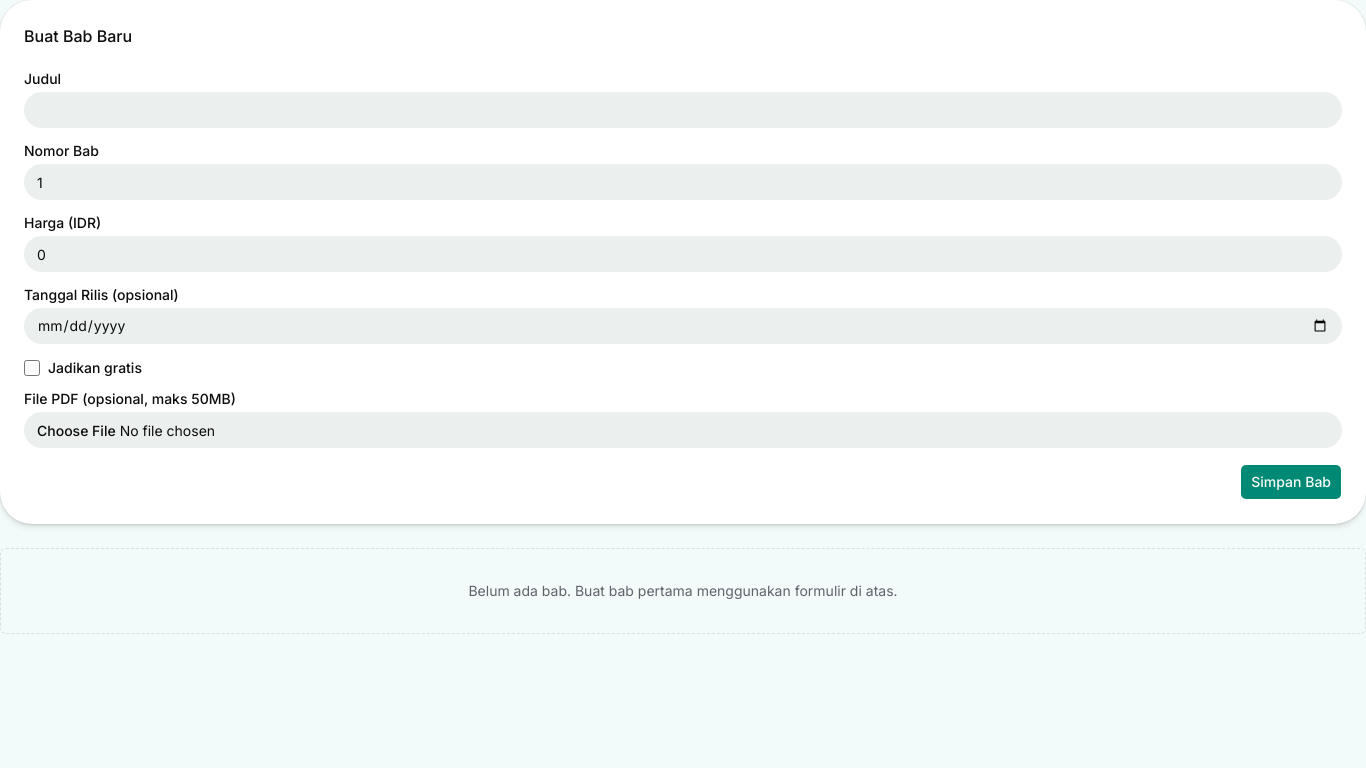
Test case: ChapterForm › shows validation errors for empty required fields on submit
Step 1. Click the button "Simpan Bab" → (1291,482), box [1240,464,1342,500]
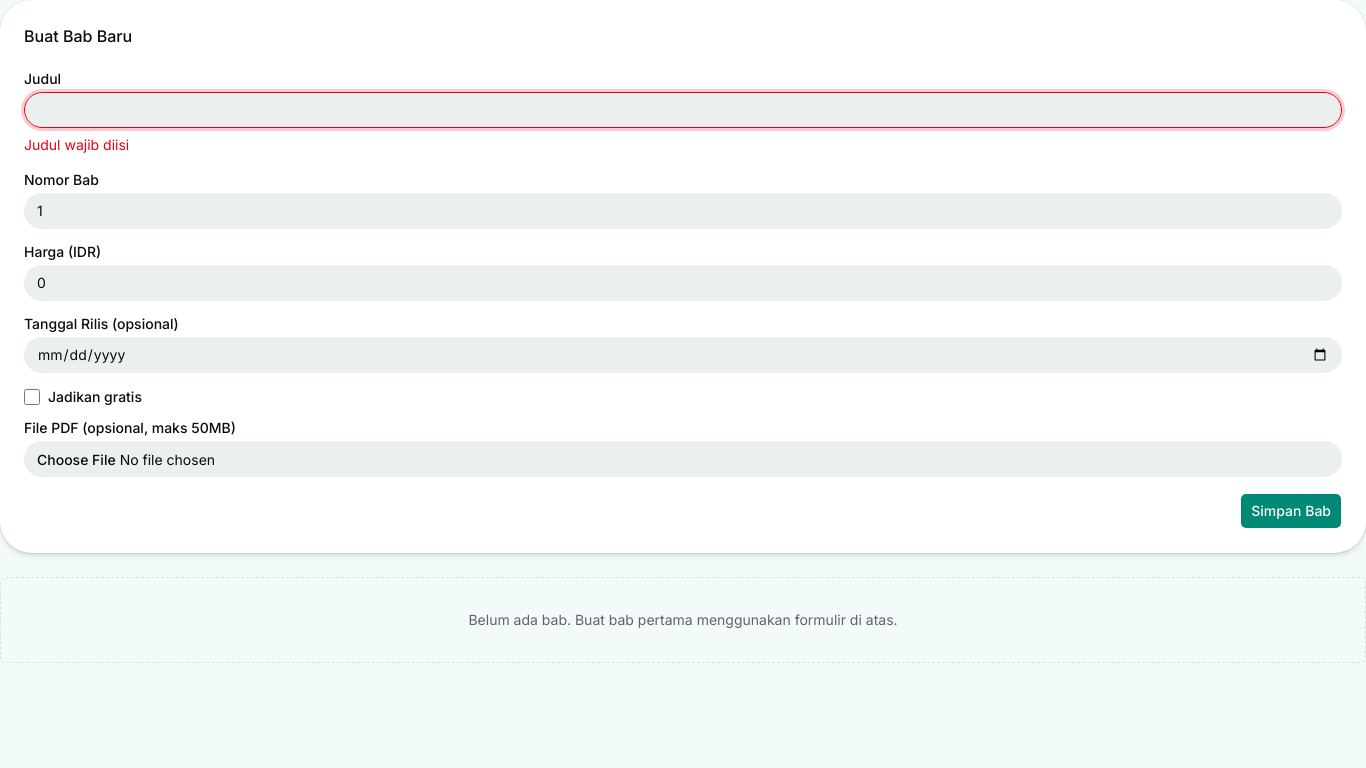
Now the text "Judul wajib diisi" is shown, box [24,136,129,153]
